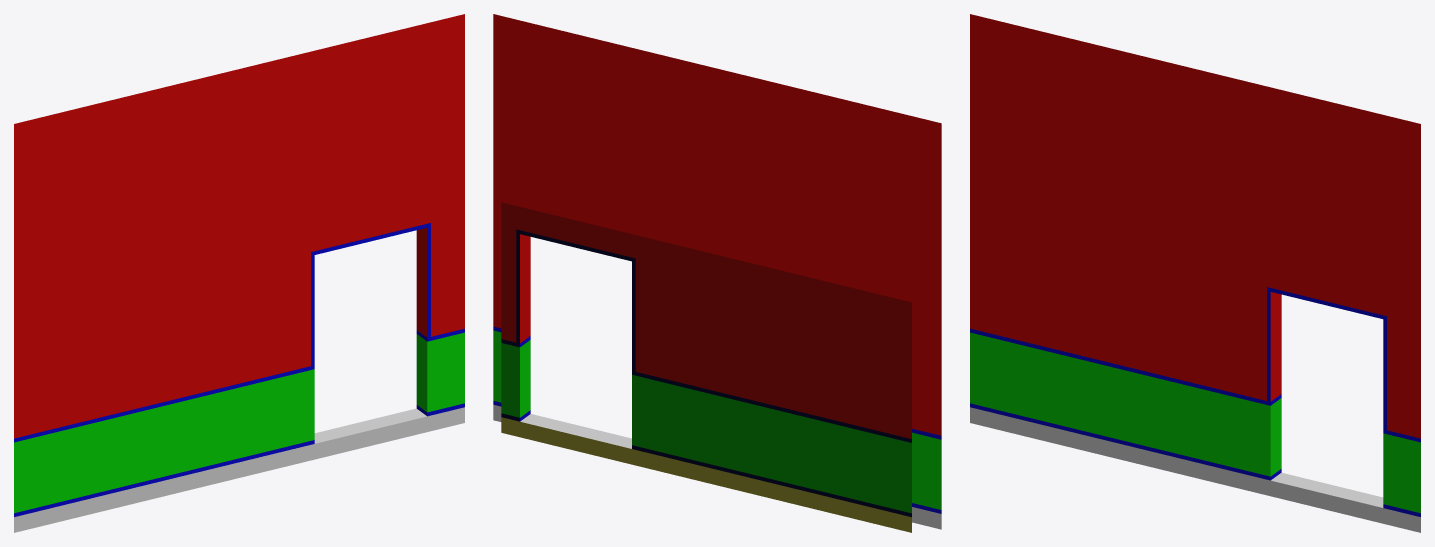
The model's file is SM_Room6xXDoorC.fbx.
3 views of the same model, side by side, from view 1: azimuth 30°, elevation 25°; view 2: azimuth 150°, elevation 25°; view 3: azimuth 330°, elevation 25° (orthographic).
Visible parts, largest first — view 1: SM_Room6xXDoorC; view 2: SM_Room6xXDoorC; view 3: SM_Room6xXDoorC.
Part boxes in pixels (x1=…): SM_Room6xXDoorC: x1=14, y1=14, x2=464, y2=532; SM_Room6xXDoorC: x1=493, y1=14, x2=941, y2=532; SM_Room6xXDoorC: x1=970, y1=14, x2=1420, y2=532.
Bounding box in the file's own units: 600 × 520 × 25.
